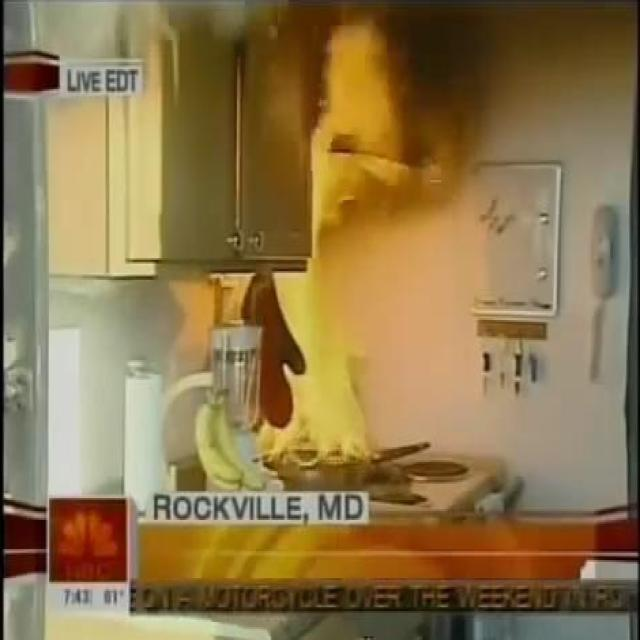fire: (4, 0, 289, 78)
smoke: (226, 21, 396, 464)
